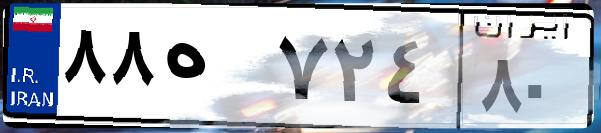0: (525, 38, 570, 115)
2: (330, 28, 385, 110)
4: (385, 28, 445, 110)
7: (270, 28, 330, 110)
8: (57, 26, 110, 100), (475, 38, 525, 113), (110, 28, 158, 98)
ه: (158, 20, 270, 120)
